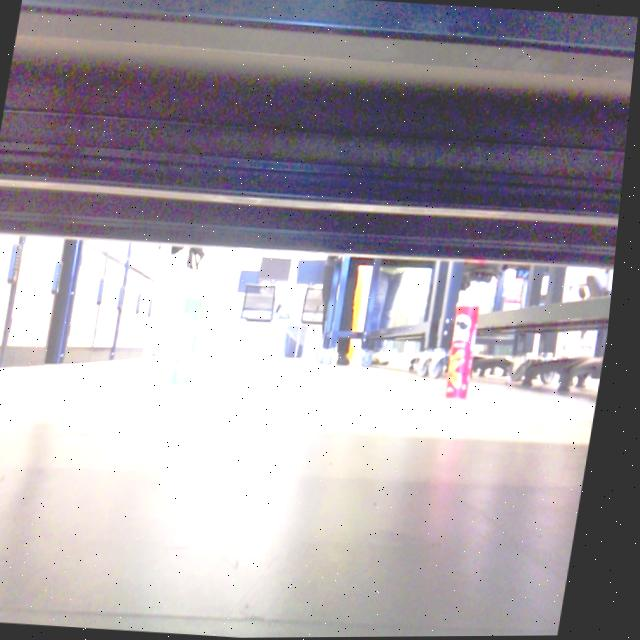greenpringles: (158, 290, 222, 411)
redpringles: (429, 297, 506, 406)
